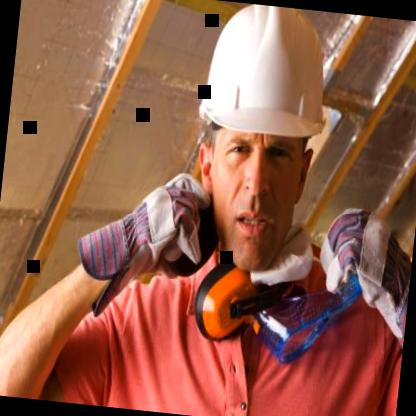helmet: (169, 0, 350, 297)
